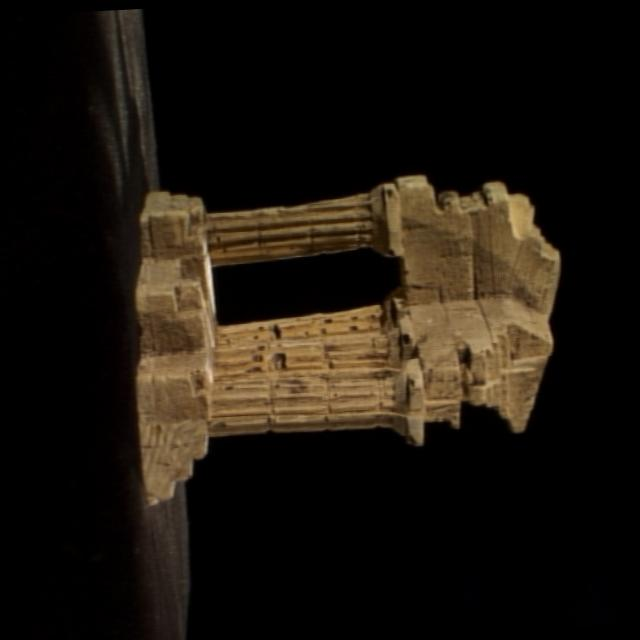Instance-Segmentation: (136, 176, 559, 502)
